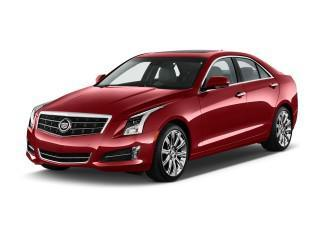cadillac: (58, 118, 74, 133)
